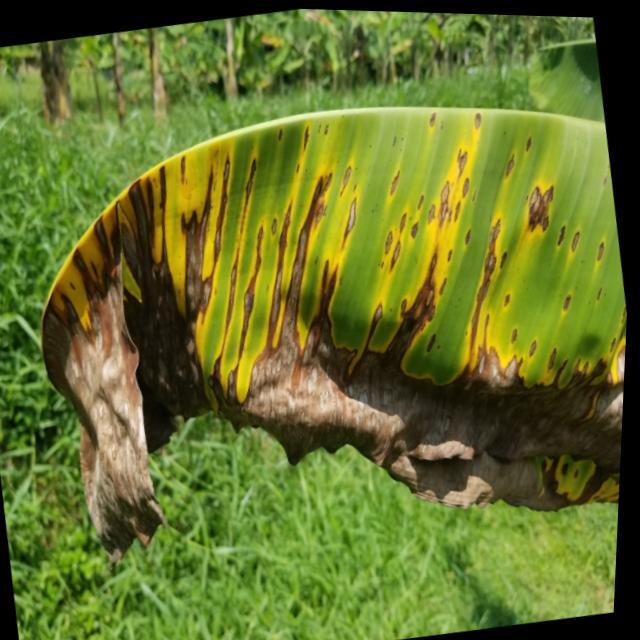Early_rust: (25, 73, 640, 550)
